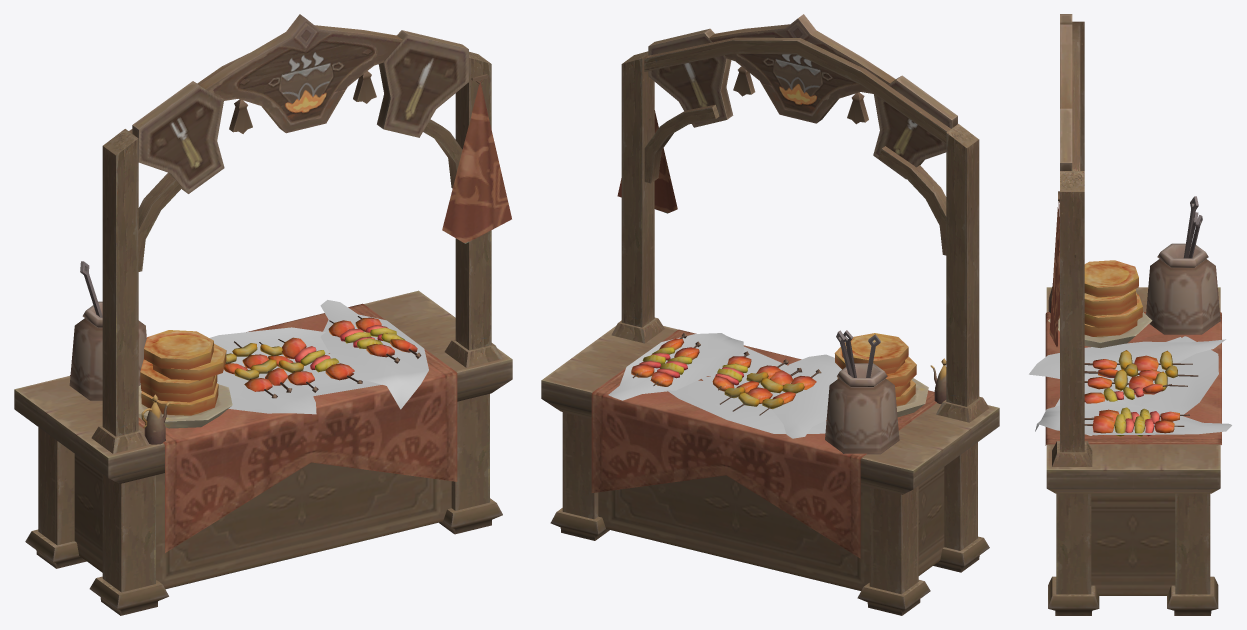
File: Homeworld_Exterior_Xm_Decoration_Prop_Snacktanwei_01_Lod0.fbx
3 renders of one model, left to right at view 1: azimuth 30°, elevation 25°; view 2: azimuth 150°, elevation 25°; view 3: azimuth 270°, elevation 25°, orthographic. The views are drawn at different scales.
Visible parts, largest first — view 1: Area_Xm_Prop_XKC_Dptanwei_05_Lod0; view 2: Area_Xm_Prop_XKC_Dptanwei_05_Lod0; view 3: Area_Xm_Prop_XKC_Dptanwei_05_Lod0.
Part boxes in pixels (<box>): Area_Xm_Prop_XKC_Dptanwei_05_Lod0: <box>14,14,512,615</box>; Area_Xm_Prop_XKC_Dptanwei_05_Lod0: <box>541,14,999,615</box>; Area_Xm_Prop_XKC_Dptanwei_05_Lod0: <box>1029,14,1231,615</box>.
Size of the model in its own units: 2.07 by 2.65 by 0.9637.
